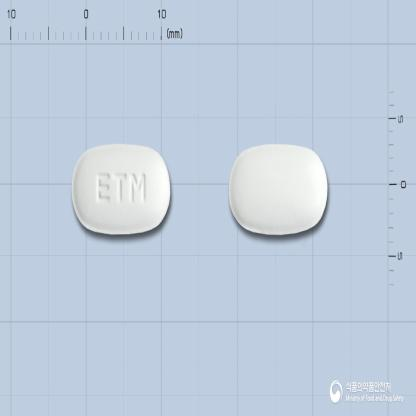pill: (70, 141, 172, 235), (228, 144, 330, 236)
